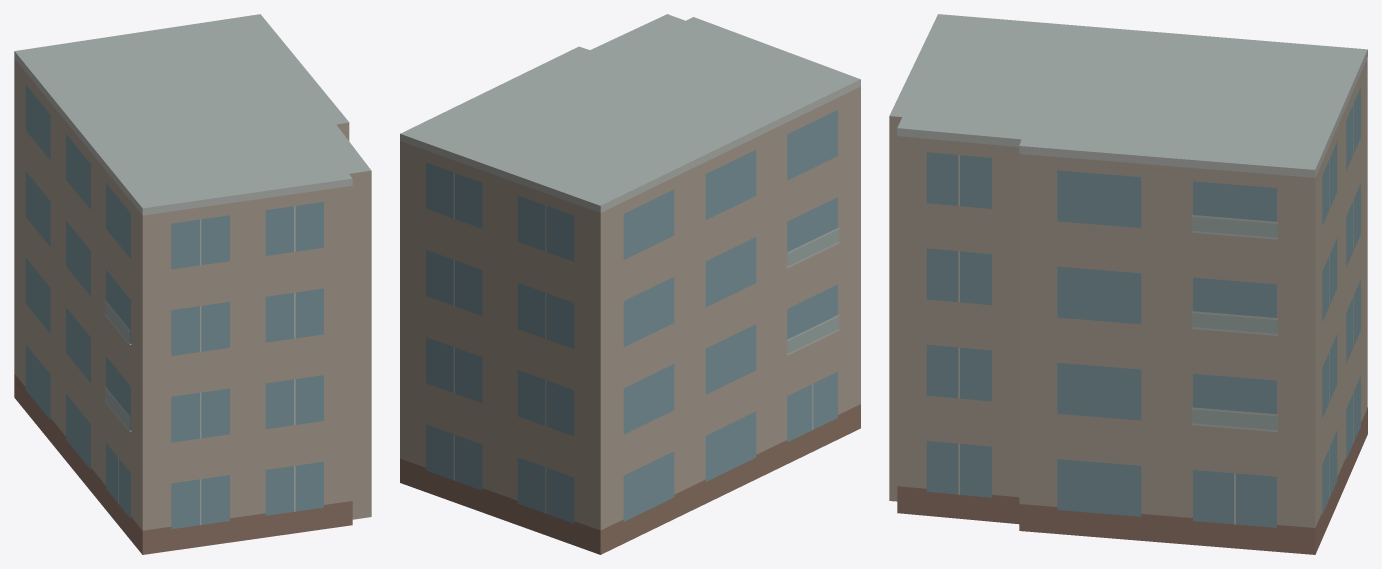
Rendered from survey-upis-32587581.glb.
The picture shows the model from 3 angles, left to right: view 1: azimuth 30°, elevation 25°; view 2: azimuth 150°, elevation 25°; view 3: azimuth 270°, elevation 25°; orthographic projection. The views are drawn at different scales.
Parts seen in each view (by area): view 1: survey-upis-32587581.tmp; view 2: survey-upis-32587581.tmp; view 3: survey-upis-32587581.tmp.
Boxes of the visible parts, x1,y1,x2,y2 form: survey-upis-32587581.tmp: (14,14,371,554); survey-upis-32587581.tmp: (400,14,860,554); survey-upis-32587581.tmp: (889,14,1367,554).
Bounding box in the file's own units: 10.26 × 11.8 × 13.3.
